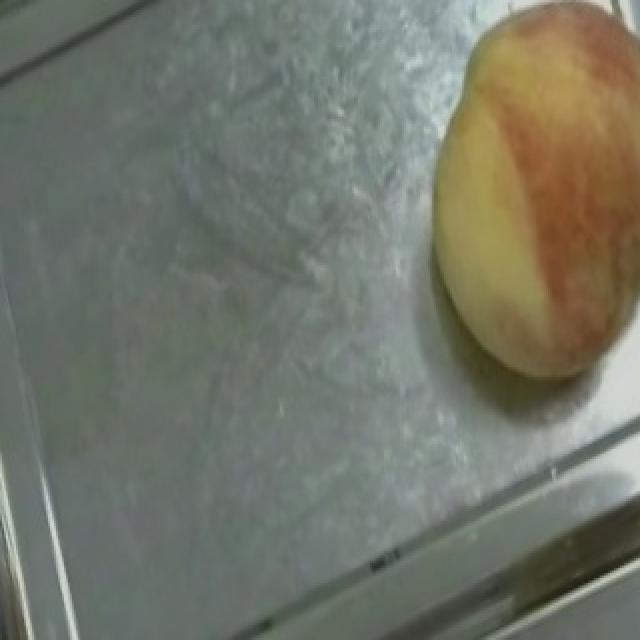Fruit: (388, 0, 640, 310)
